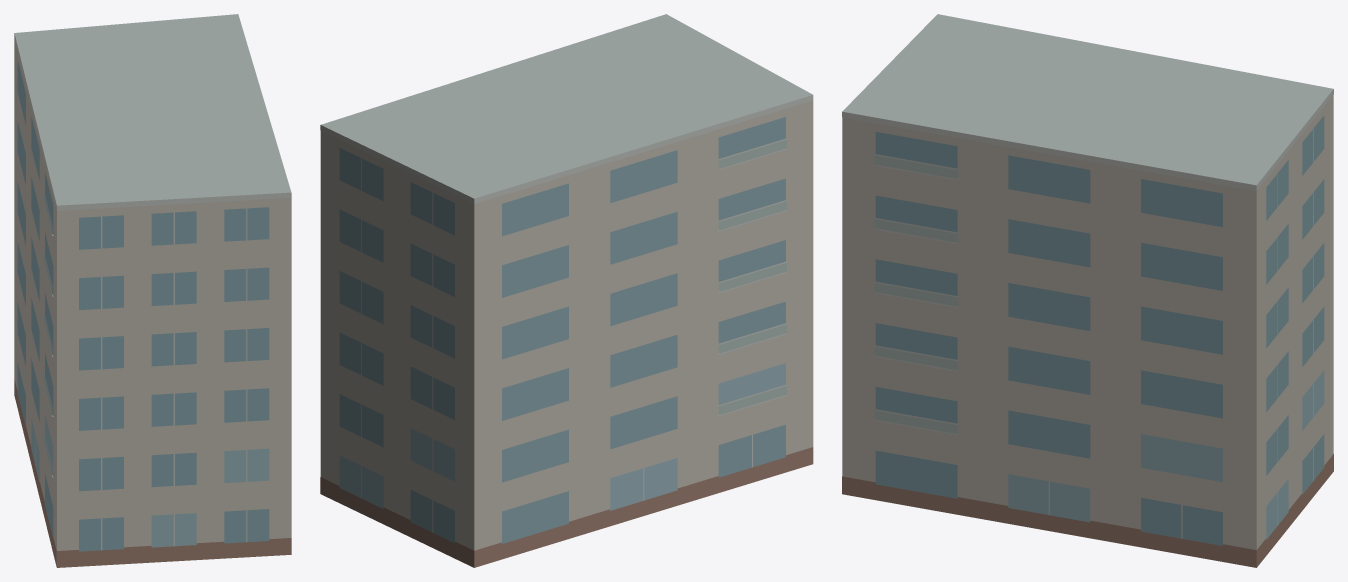
File: survey-upis-32971845.glb
3 renders of one model, left to right at view 1: azimuth 30°, elevation 25°; view 2: azimuth 150°, elevation 25°; view 3: azimuth 270°, elevation 25°, orthographic. The views are drawn at different scales.
Visible parts, largest first — view 1: survey-upis-32971845.tmp; view 2: survey-upis-32971845.tmp; view 3: survey-upis-32971845.tmp.
Part boxes in pixels (x1,y1,x2,y2): survey-upis-32971845.tmp: [14, 14, 291, 567]; survey-upis-32971845.tmp: [320, 14, 813, 567]; survey-upis-32971845.tmp: [842, 14, 1333, 567].
Size of the model in its own units: 15.95 by 16.6 by 19.34.
